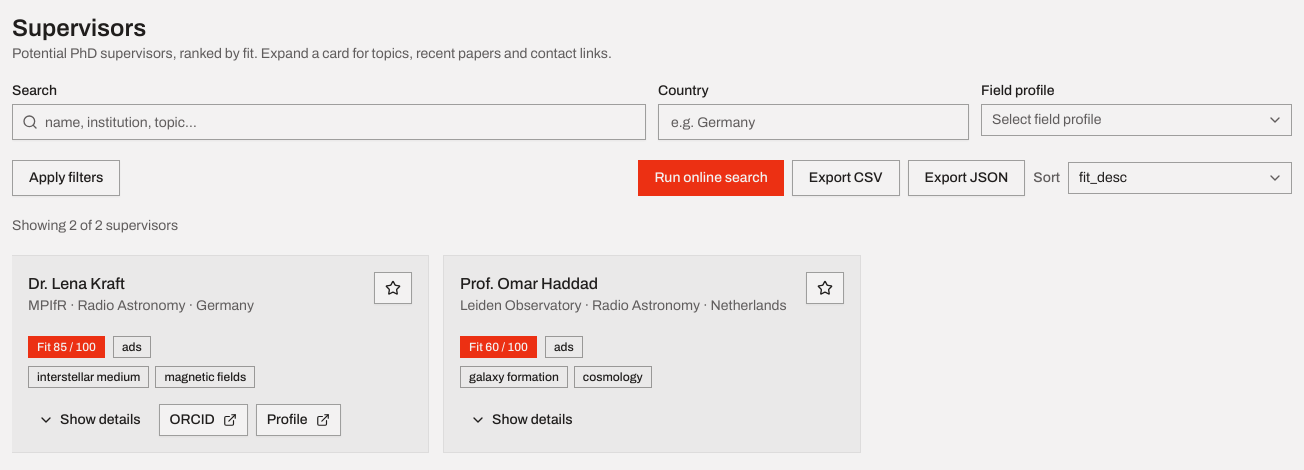
SupervisorsPage › searches by topic text
expect the text "Dr. Lena Kraft" is shown: met, box [28, 275, 125, 292]
In the field labelled "Search": (329, 122) [12, 104, 646, 140], type "galaxy formation"
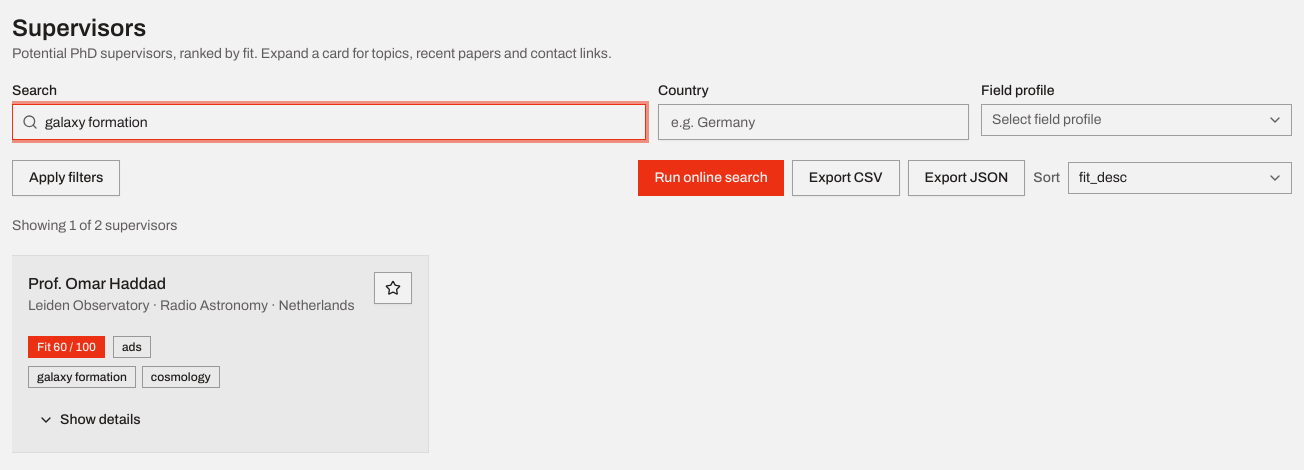
expect the text "Prof. Omar Haddad" is shown: met, box [28, 275, 166, 292]
expect the text "Dr. Lena Kraft" is gone: met
